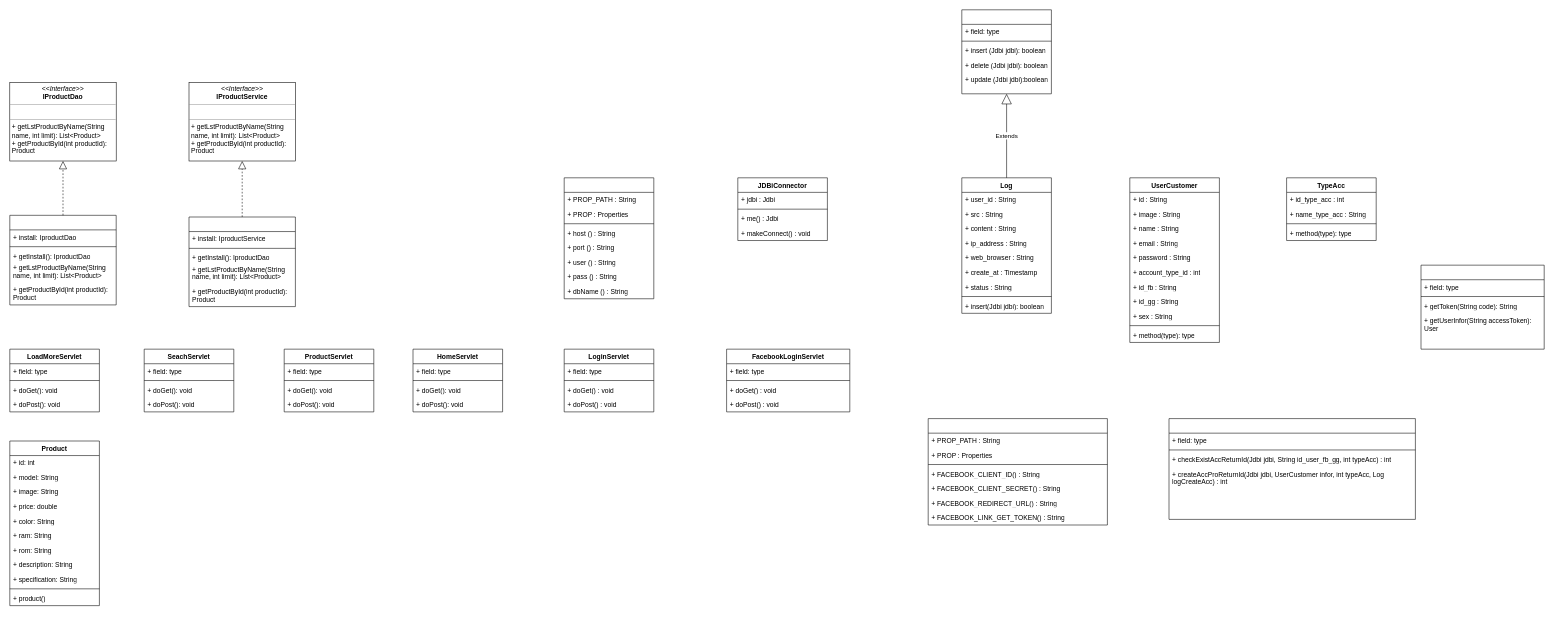
Image size: 1554x617. Some labels were removed from this diagram. Each missing label, with the box of its shape:
<<abstract>> Adbean: (961, 9, 1051, 94)
DbProperties: (564, 177, 654, 299)
FacebookGoogleService: (1168, 418, 1415, 519)
FacebookProperties: (928, 418, 1107, 525)
FacebookUtils: (1420, 265, 1544, 349)
ProductDaoImpl: (9, 215, 116, 305)
ProductServiceImpl: (188, 216, 295, 307)
